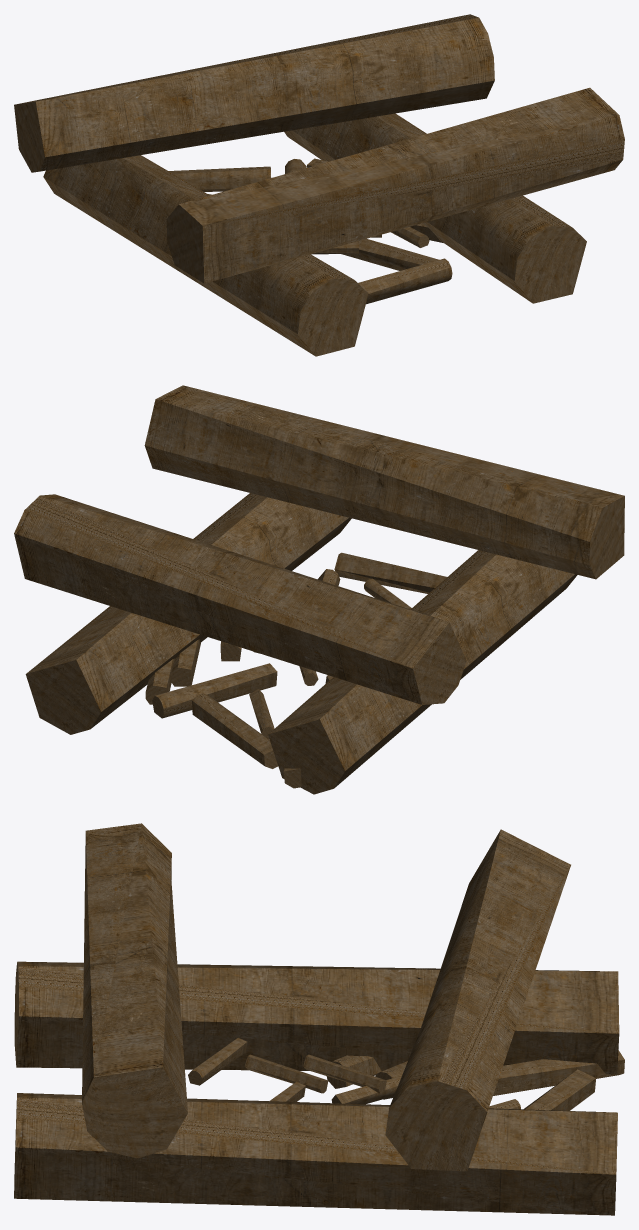
Rendered from Fireplace Wood.fbx.
3 renders of one model, top to bottom at view 1: azimuth 30°, elevation 25°; view 2: azimuth 150°, elevation 25°; view 3: azimuth 270°, elevation 25°, orthographic. The views are drawn at different scales.
Parts seen in each view (by area): view 1: Fireplace_Wood; view 2: Fireplace_Wood; view 3: Fireplace_Wood.
Boxes of the visible parts, x1=… form: Fireplace_Wood: x1=14, y1=14, x2=624, y2=356; Fireplace_Wood: x1=14, y1=385, x2=624, y2=794; Fireplace_Wood: x1=14, y1=823, x2=624, y2=1215.
Bounding box in the file's own units: 246 × 90.31 × 247.
1 material, 1 textured.
